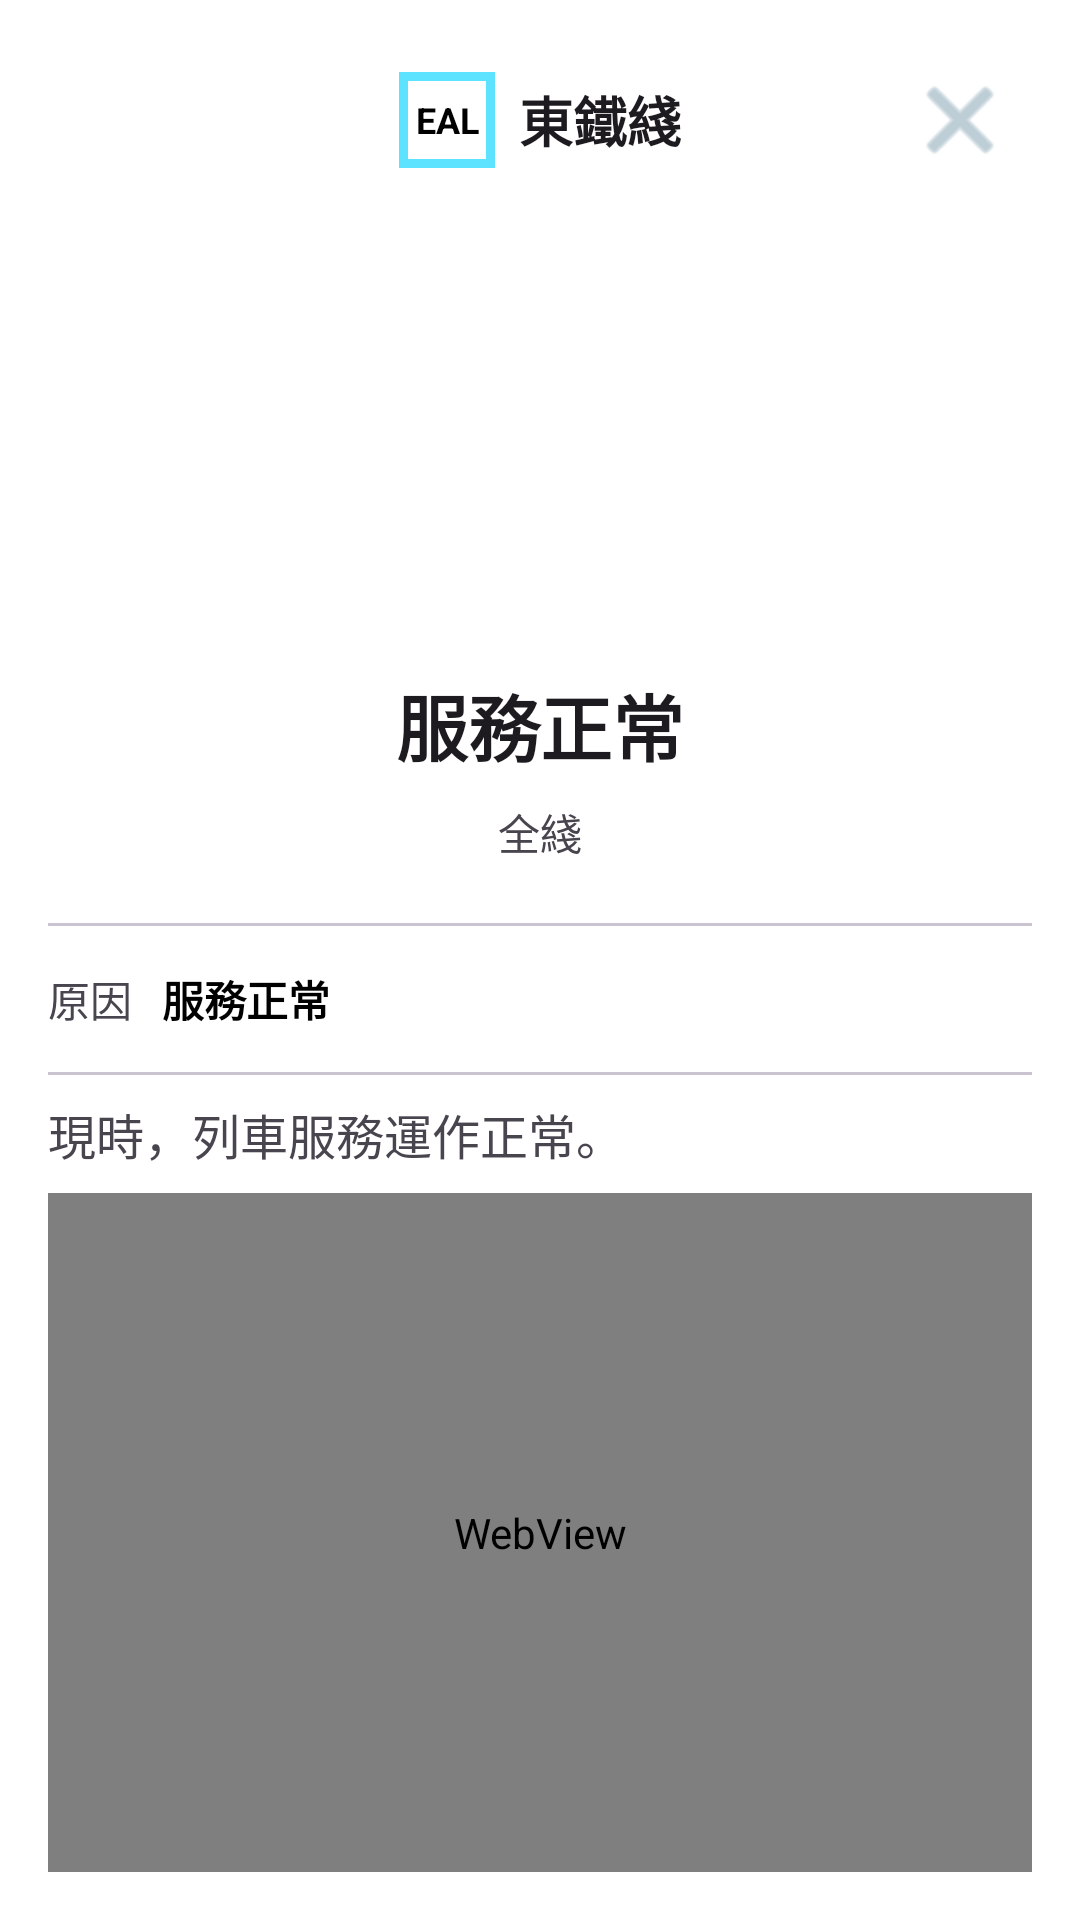

Named icons in this screenshot (1080px×1920px) and their bounding boxes, (x1, y1, x2, y2):
close clear cancel: (927, 87, 993, 153)
